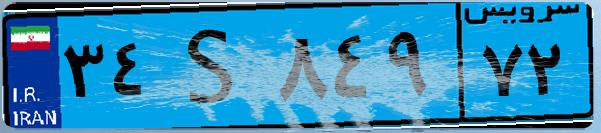2: (525, 38, 570, 115)
3: (57, 26, 110, 100)
4: (330, 28, 385, 110), (110, 28, 158, 98)
7: (475, 38, 525, 113)
8: (270, 28, 330, 110)
9: (385, 28, 445, 110)
S: (158, 12, 270, 120)
